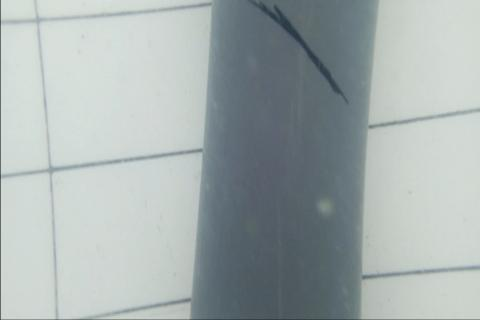keretakan: (248, 0, 352, 109)
